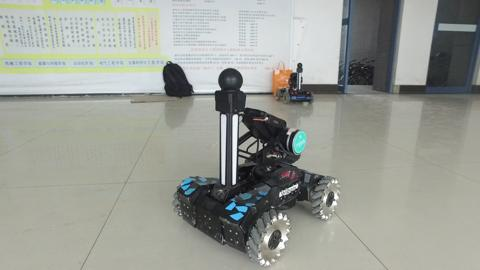bag: (159, 58, 196, 100), (270, 59, 292, 96)
chariot: (170, 66, 340, 267), (273, 61, 316, 106)
